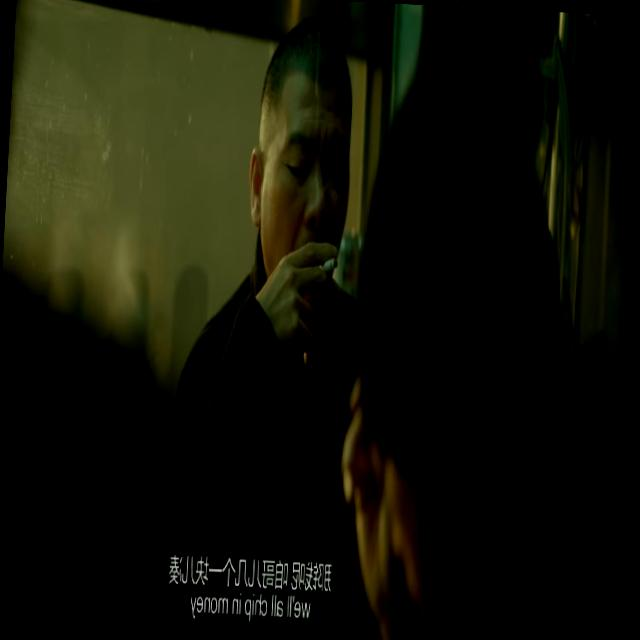smoke: (322, 250, 339, 292)
